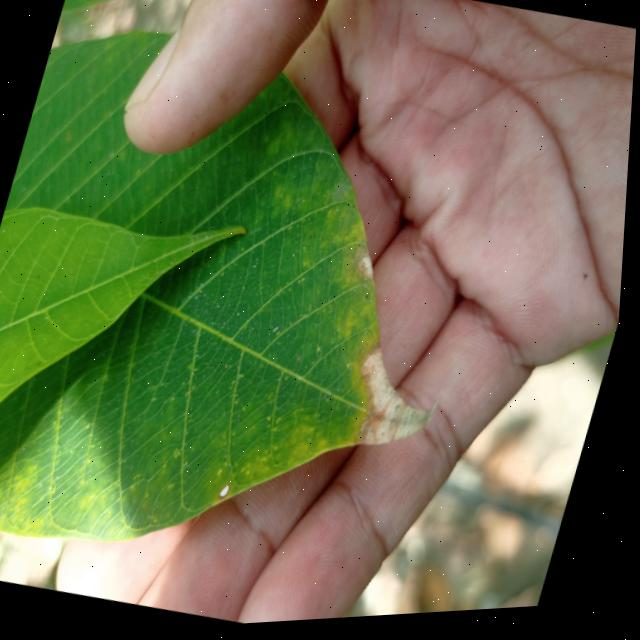Leaf-Blight: (345, 345, 456, 465), (357, 255, 383, 286), (223, 484, 237, 502)
